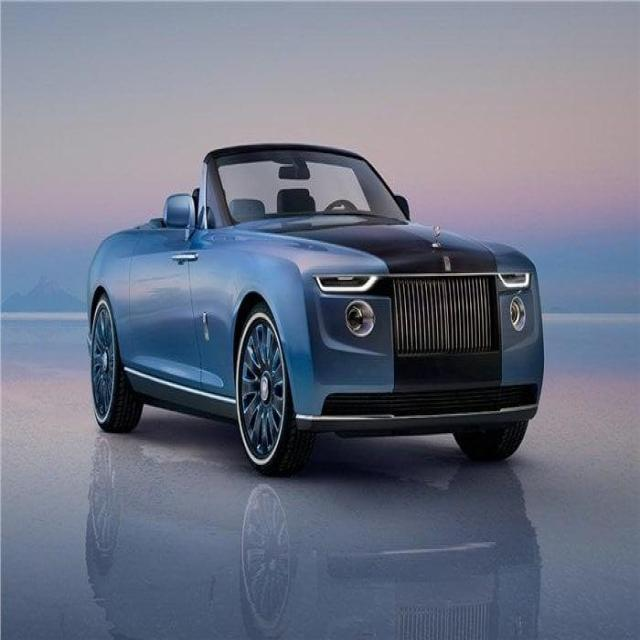cars: (78, 134, 557, 481)
